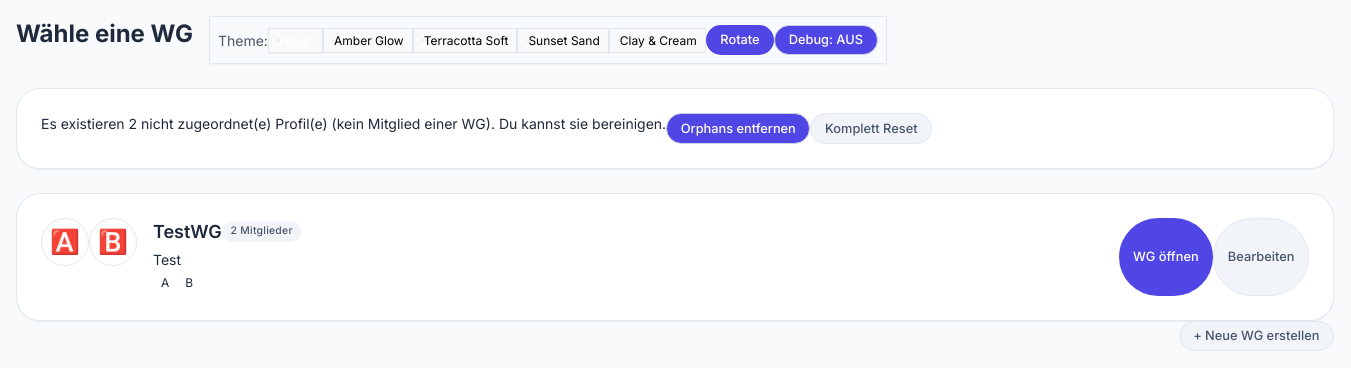
Test: Orphan Profiles Cleanup › shows orphan warning and cleans them up
Check: the heading "Wähle eine WG" is shown, box [16,19,193,48]
Check: the element with test id "orphan-profiles-warning" is shown, box [16,88,1334,169]
Click the button with test id "cleanup-orphans-btn" at (738, 129), box [666,113,810,144]
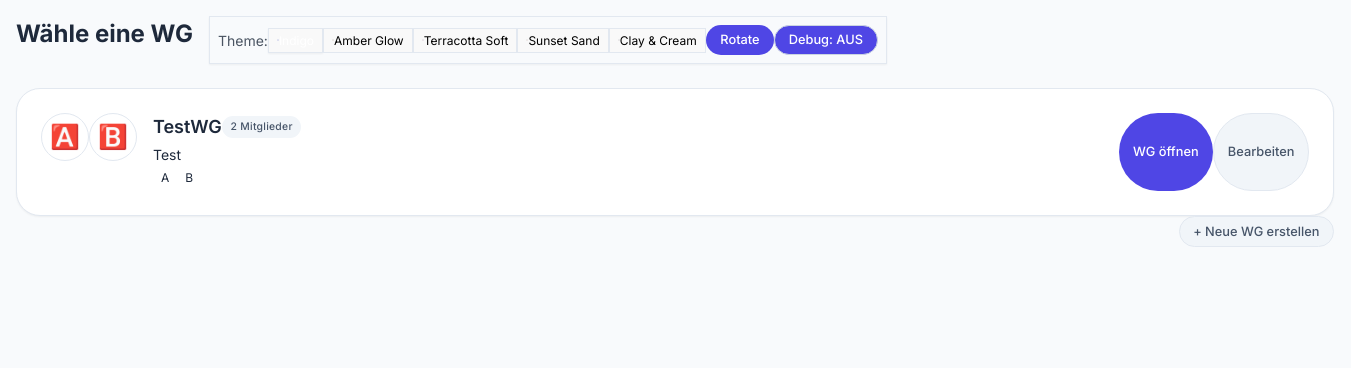
Check: the element with test id "orphan-profiles-warning" is gone
